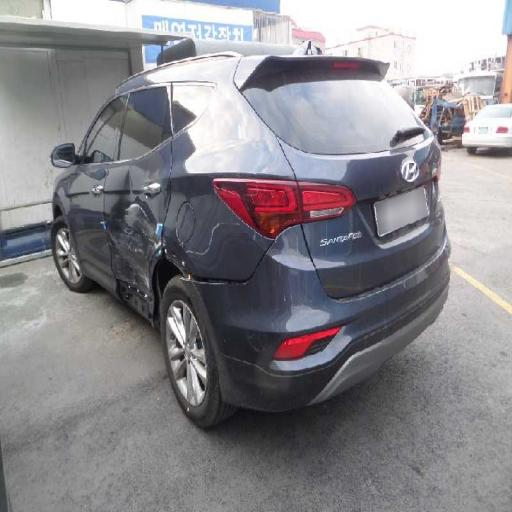dent: (96, 178, 165, 310)
scratch: (182, 199, 256, 273)
